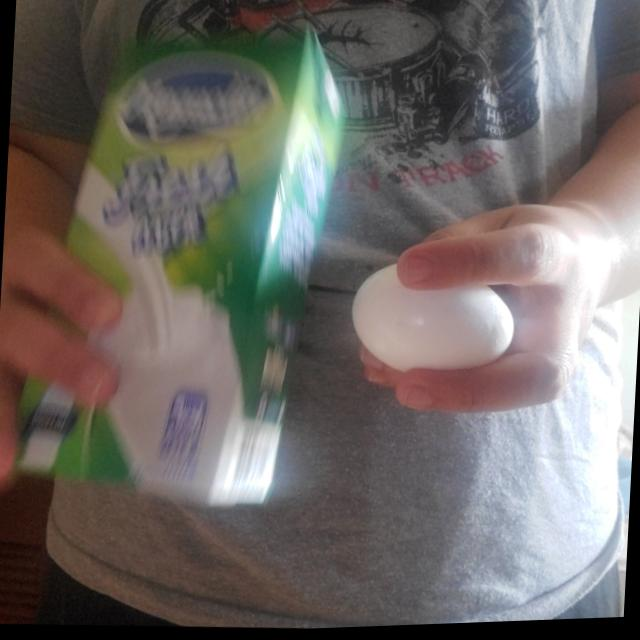egg: (351, 253, 520, 381)
milk: (0, 4, 352, 516)
